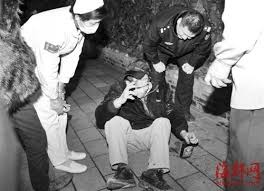falling: (96, 56, 194, 191)
